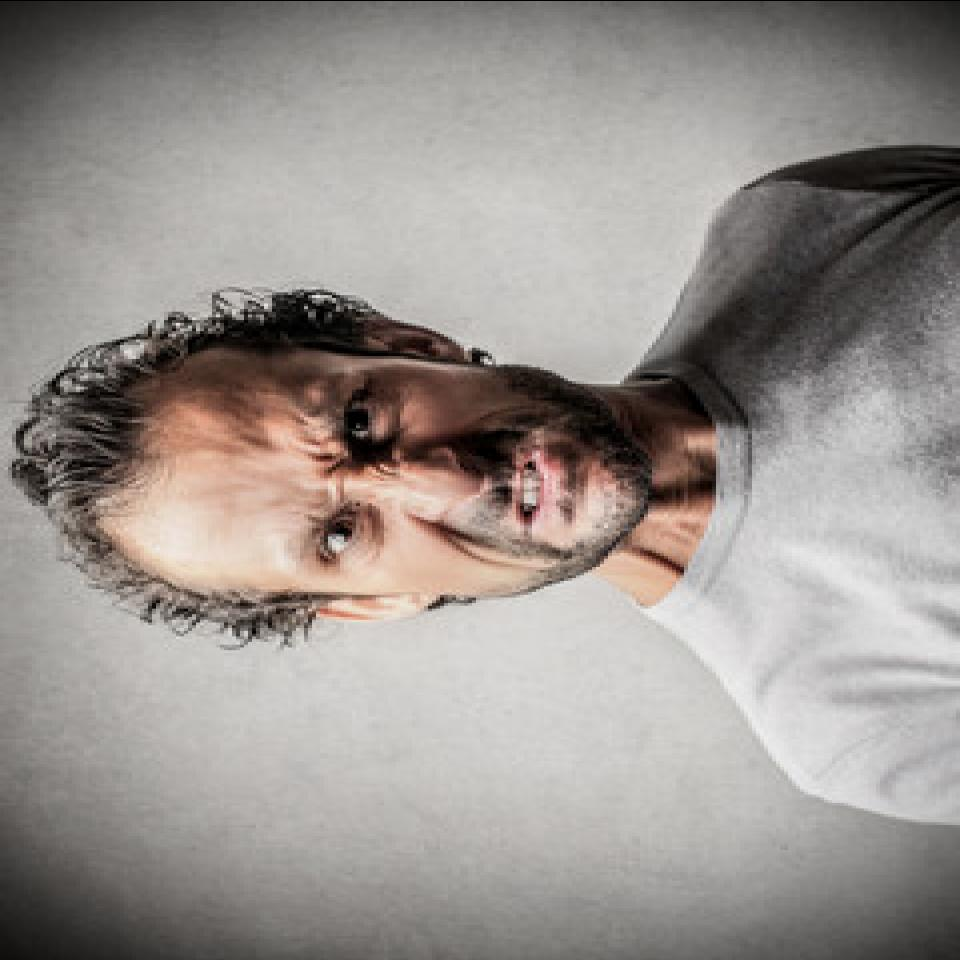Anger: (156, 346, 638, 592)
